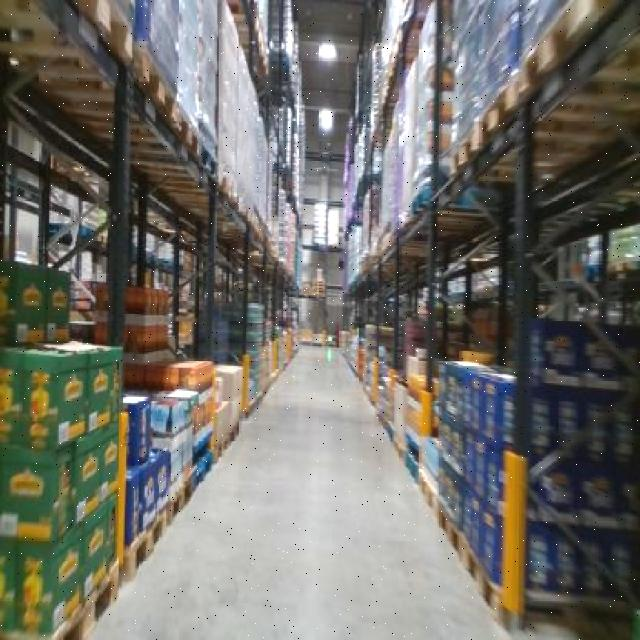pallet: (64, 549, 122, 640), (126, 496, 168, 584), (432, 483, 468, 573)
